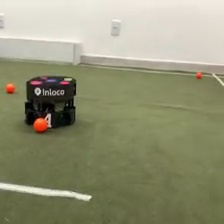ball: (31, 115, 49, 133), (4, 81, 16, 93), (195, 69, 203, 79)
goal: (1, 35, 83, 66)
robot: (22, 73, 79, 129)
